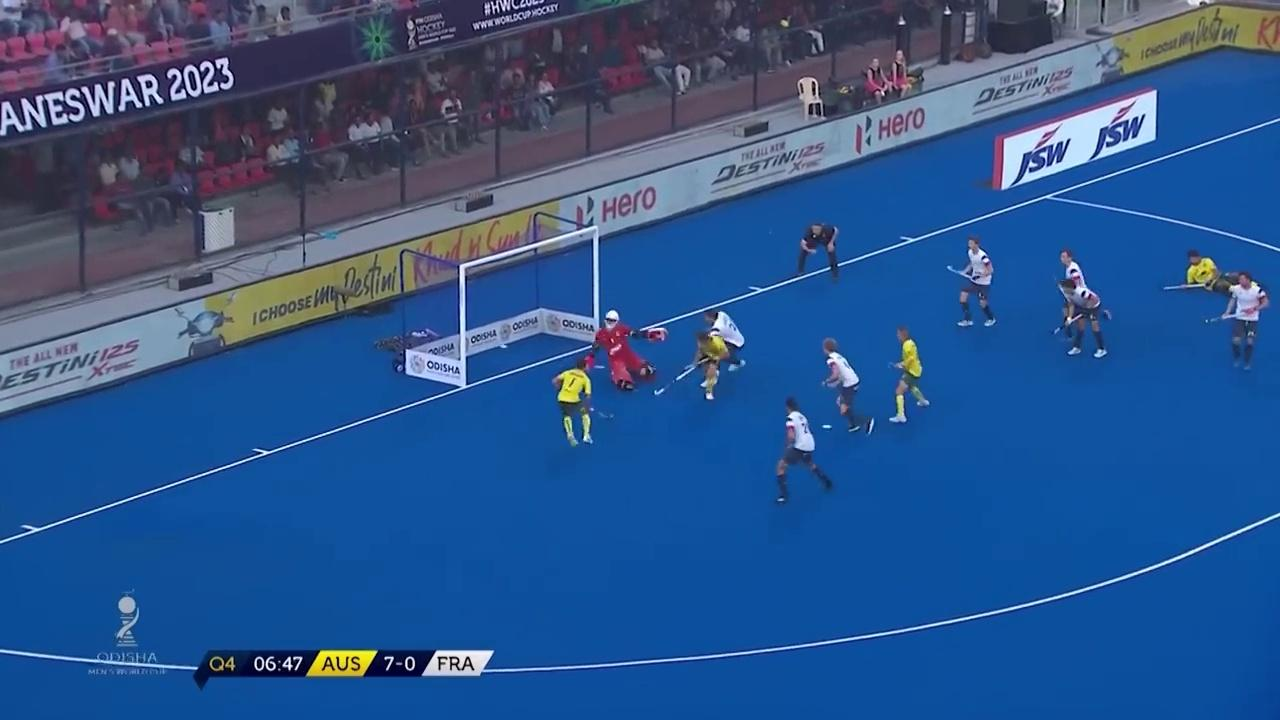ball: (497, 335, 509, 356)
